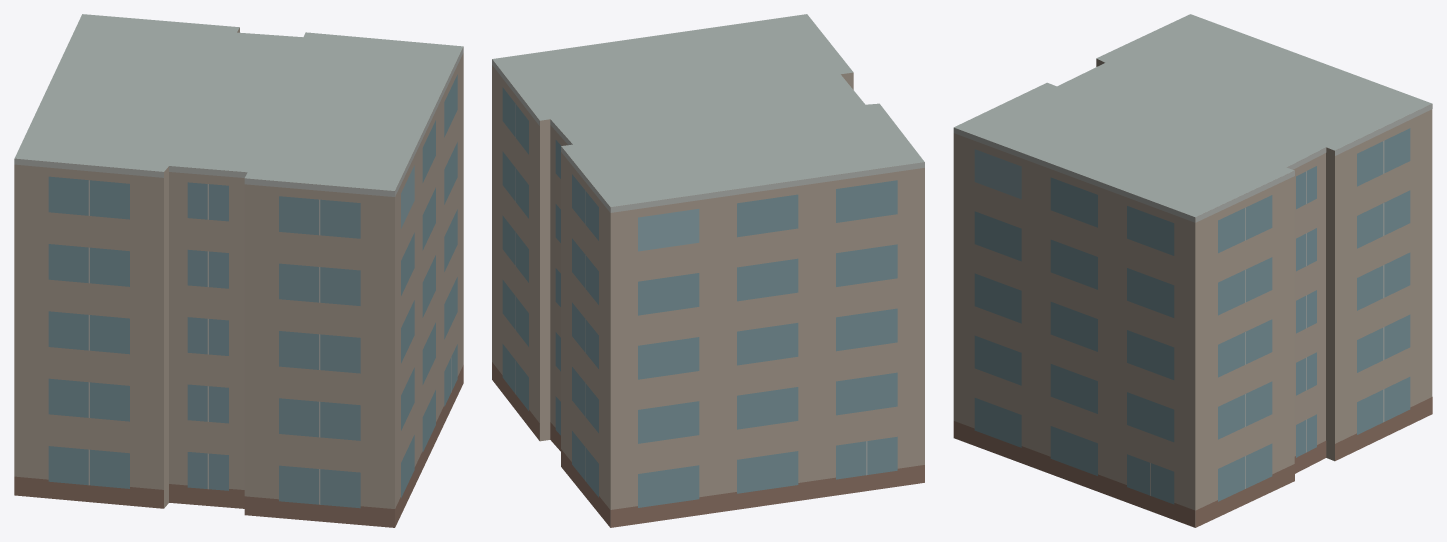
File: survey-upis-32834504.glb
The picture shows the model from 3 angles, left to right: view 1: azimuth 30°, elevation 25°; view 2: azimuth 150°, elevation 25°; view 3: azimuth 270°, elevation 25°; orthographic projection. The views are drawn at different scales.
Parts seen in each view (by area): view 1: survey-upis-32834504.tmp; view 2: survey-upis-32834504.tmp; view 3: survey-upis-32834504.tmp.
Part boxes in pixels (x1,y1,x2,y2): survey-upis-32834504.tmp: (14,14,463,527); survey-upis-32834504.tmp: (492,14,924,527); survey-upis-32834504.tmp: (953,14,1432,527).
Size of the model in its own units: 19.24 by 13.7 by 19.15.
